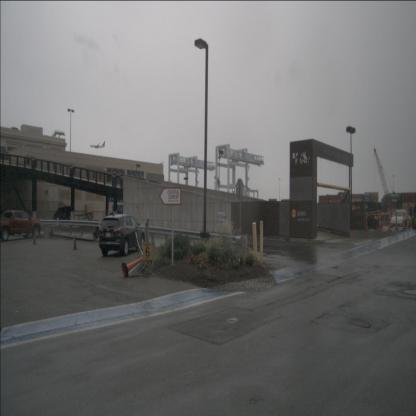movable_object-trafficcone: (121, 257, 143, 279), (387, 209, 392, 231), (364, 211, 369, 231), (72, 234, 78, 250), (378, 209, 382, 232), (395, 210, 399, 230), (406, 212, 410, 229), (402, 212, 406, 228), (32, 230, 36, 244)
vehicle-car: (99, 214, 145, 257), (390, 209, 412, 228), (53, 207, 72, 223)
vehicle-truck: (0, 210, 41, 242)
